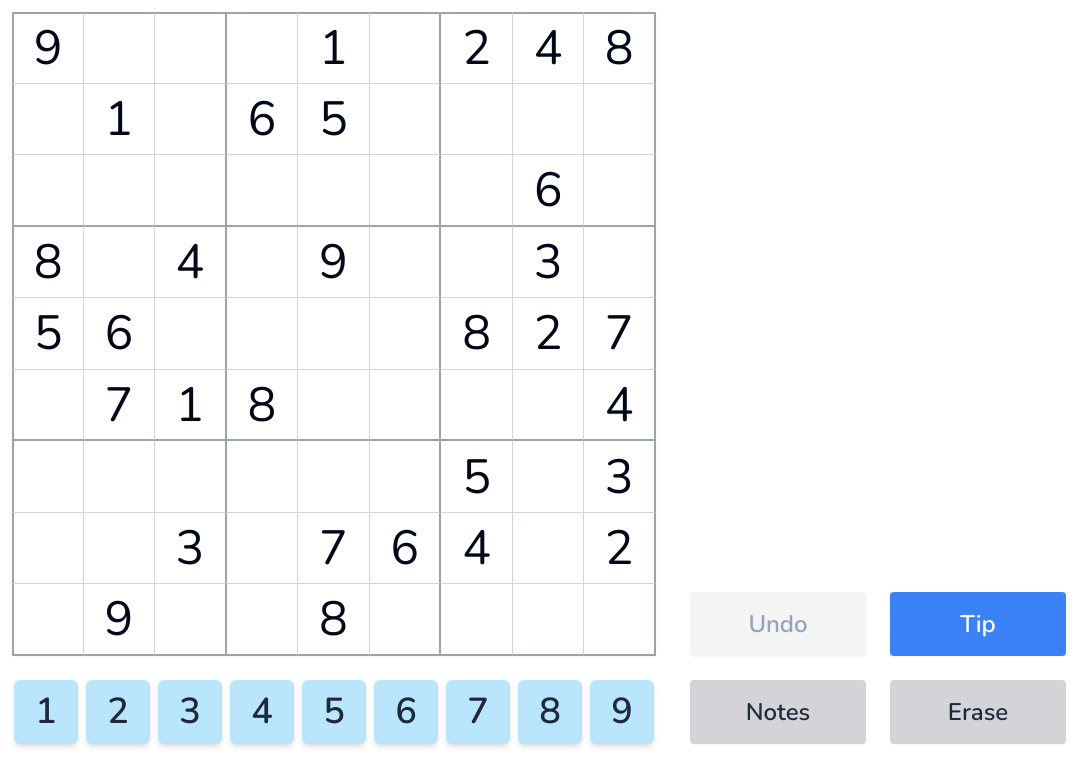
it: digit toggled 'off' › should fill empty cell with proposed digit
The image size is (1083, 765).
Click the element with test id "cell".
click(119, 48)  # box [84,12,155,84]
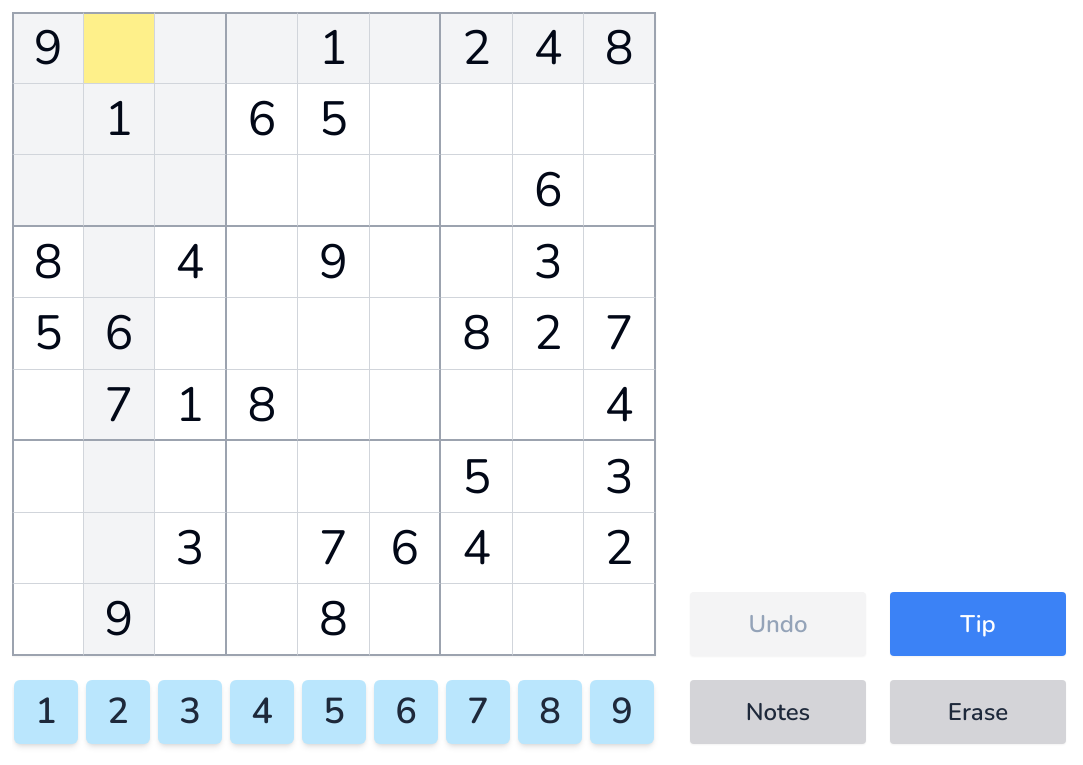
Click the button "5".
click(334, 712)  # box [302,680,366,744]
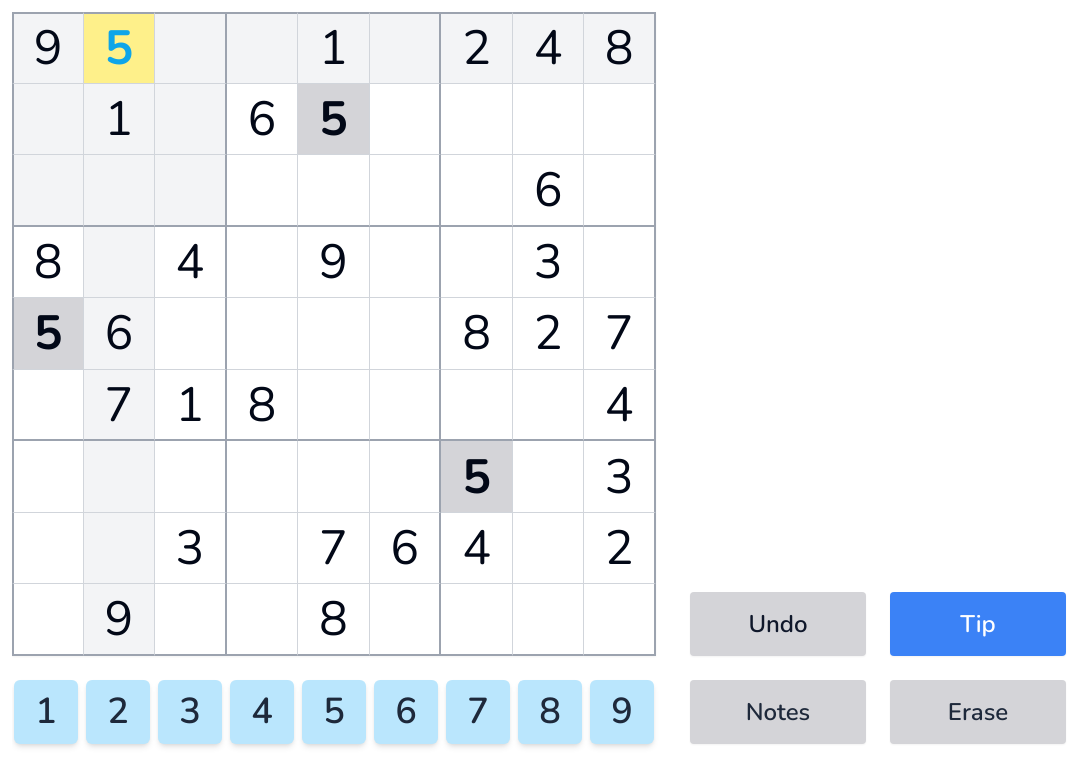
Expected: the element with test id "cell" reads "5", [104,15,133,81]
